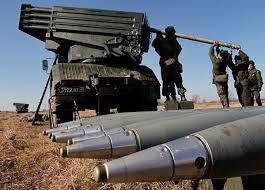MIL_SAM_TEL: (16, 3, 162, 125)
